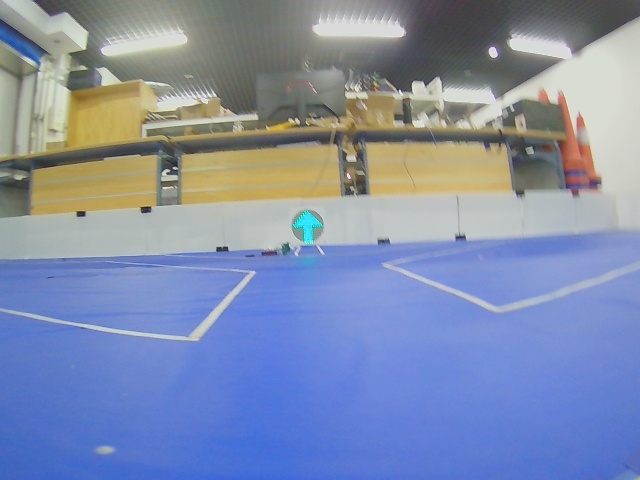straight_green: (292, 209, 324, 244)
